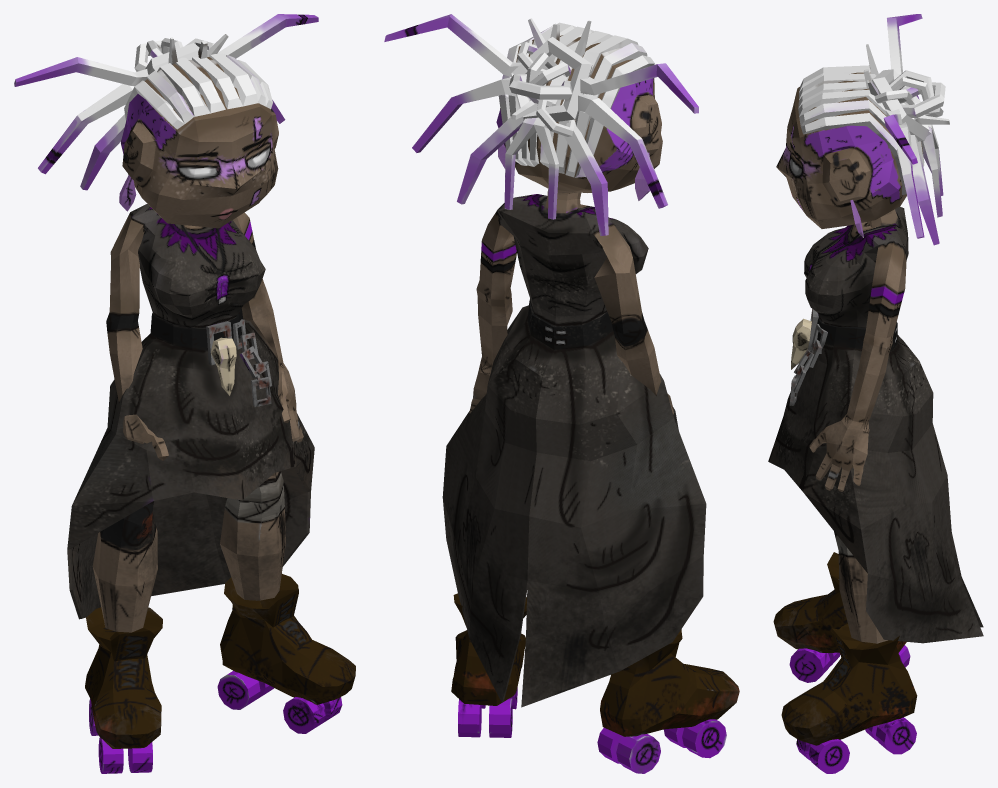
The model's file is bruja_000053.obj.
3 renders of one model, left to right at view 1: azimuth 30°, elevation 25°; view 2: azimuth 150°, elevation 25°; view 3: azimuth 270°, elevation 25°, orthographic. The views are drawn at different scales.
Parts seen in each view (by area): view 1: Bruja_Plane.001; view 2: Bruja_Plane.001; view 3: Bruja_Plane.001.
Boxes of the visible parts, left/top/right/bottom form: Bruja_Plane.001: left=14, top=14, right=355, bottom=773; Bruja_Plane.001: left=384, top=14, right=739, bottom=773; Bruja_Plane.001: left=768, top=14, right=983, bottom=773.
Size of the model in its own units: 7.47 by 16.58 by 4.87.
